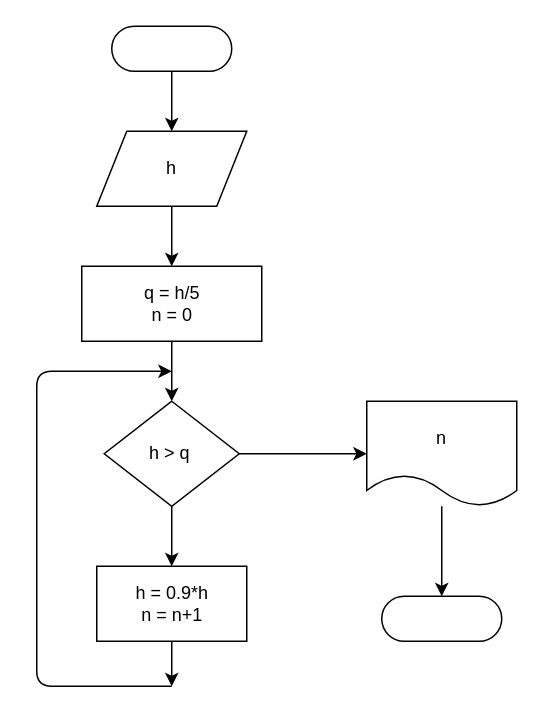
This 543x725 diagram has some shape labels left out. The shapes that lost their labels are listed below. From the top down, each one's box as (x1, y1, x2, y2) in pixels, then its label:
(110, 25, 232, 71): INICIO
(380, 595, 502, 641): FIN
